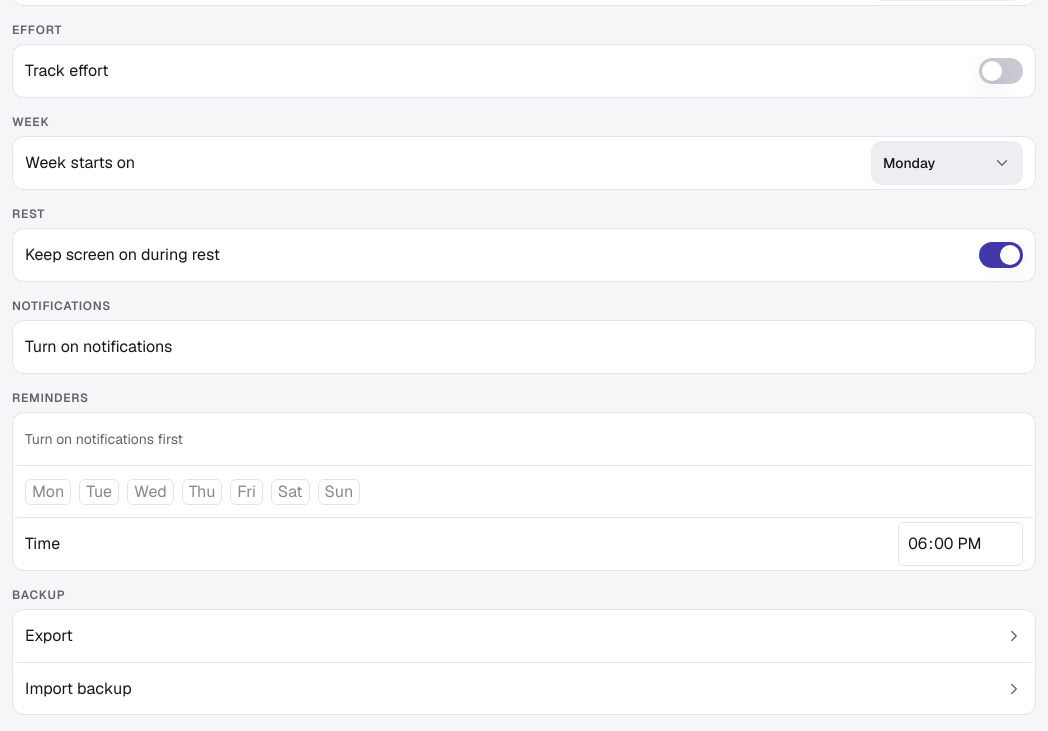
Test: O25 an enable that finds the server unconfigured explains it
(page scrolled)
What coordinates should you click on to do the following:
click the button "Turn on notifications"
I would click on:
 (99, 346)
Its box is [13, 321, 1035, 373].
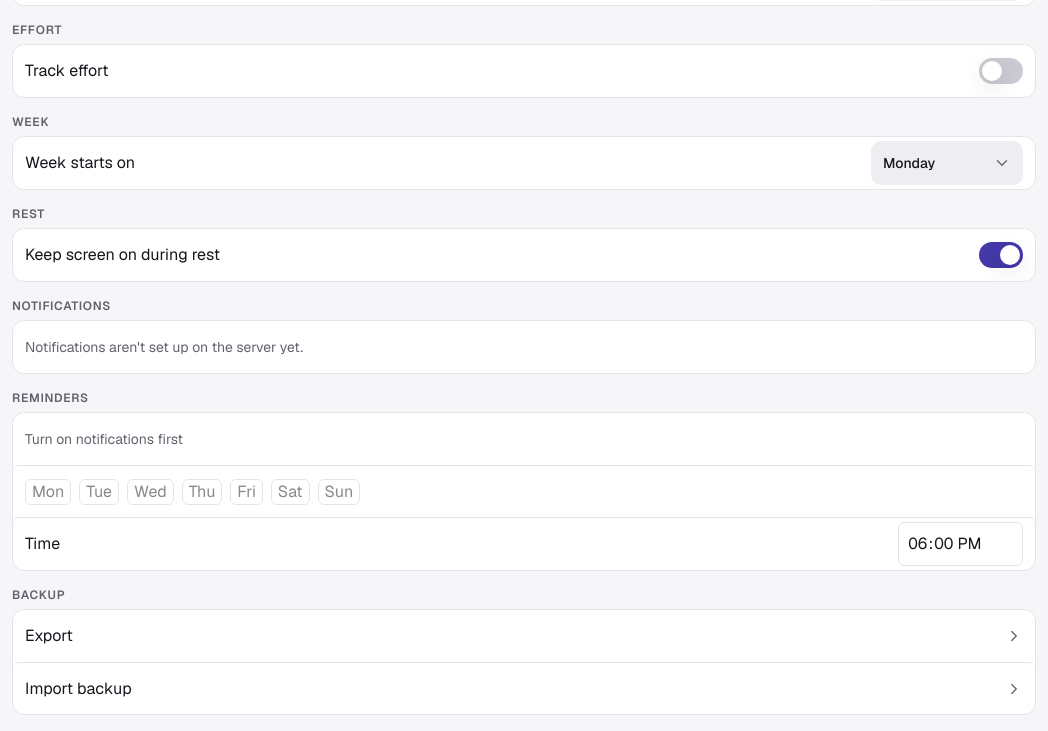
Result: the text "Notifications aren't set up on the server yet." is shown at [25, 338, 303, 356]
